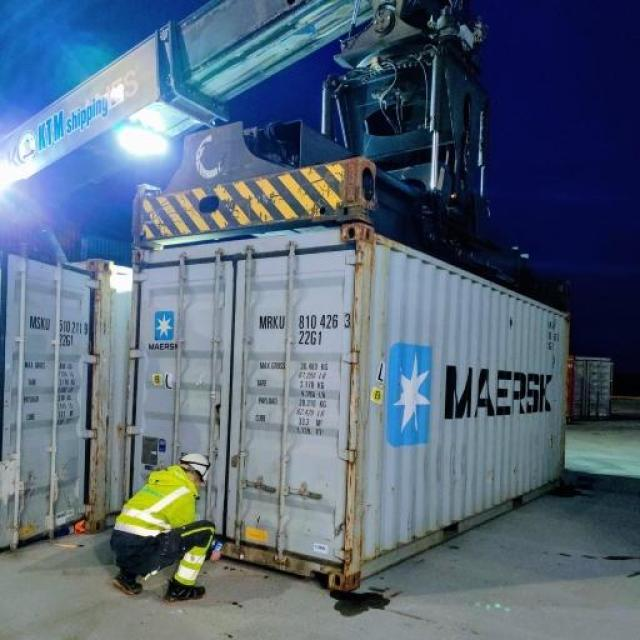ISO: (297, 332, 323, 348)
container_number: (257, 313, 350, 331)
